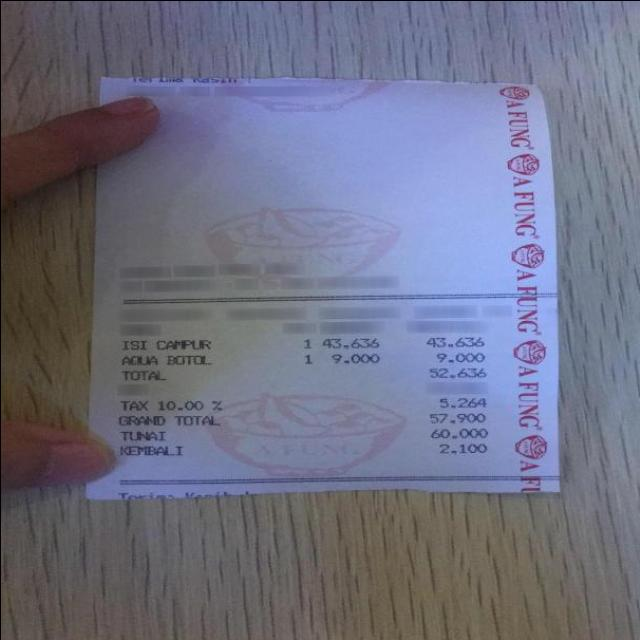kertas: (86, 77, 557, 499)
